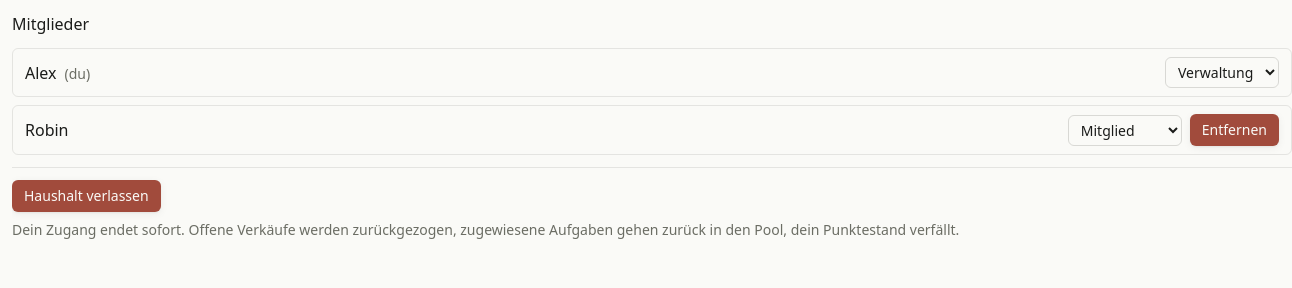
Test: a only_children refusal shows its own sentence
This screenshot has width=1292, height=288.
Click the button "Haushalt verlassen".
click(86, 196)  # box 12,180 -> 161,212
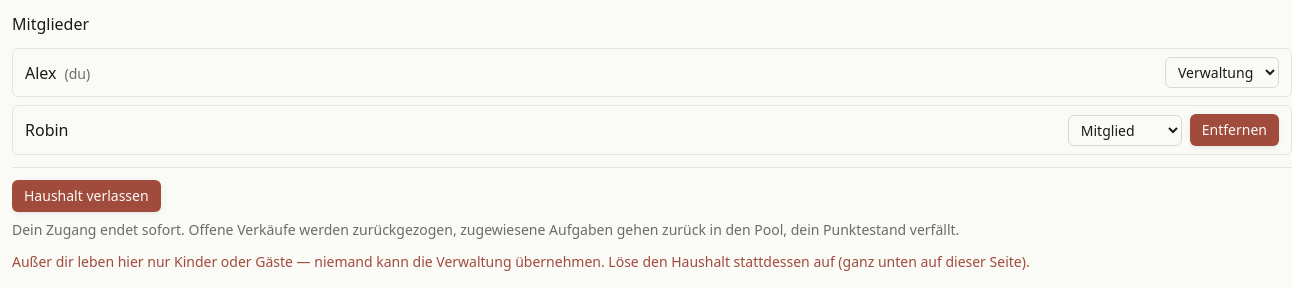
Now the message shows "Außer dir leben hier nur Kinder oder Gäste — niemand kann die Verwaltung übernehmen. Löse den Haushalt stattdessen auf (ganz unten auf dieser Seite).", box 12,252 -> 1030,271
